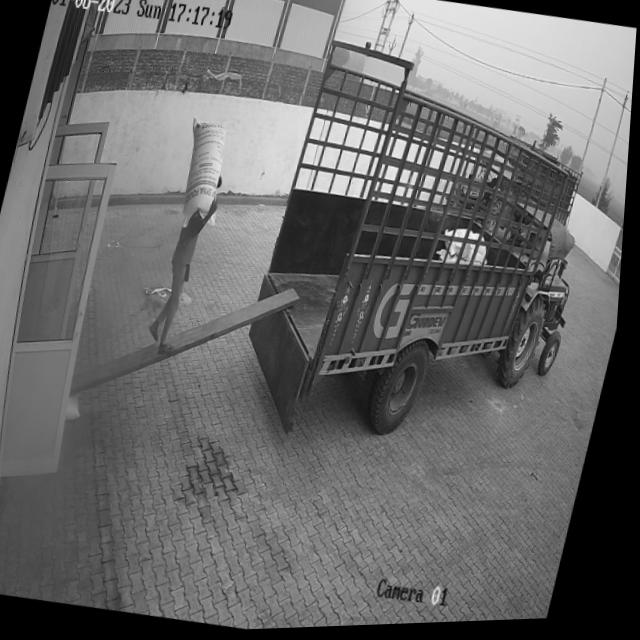sack: (171, 117, 235, 233)
